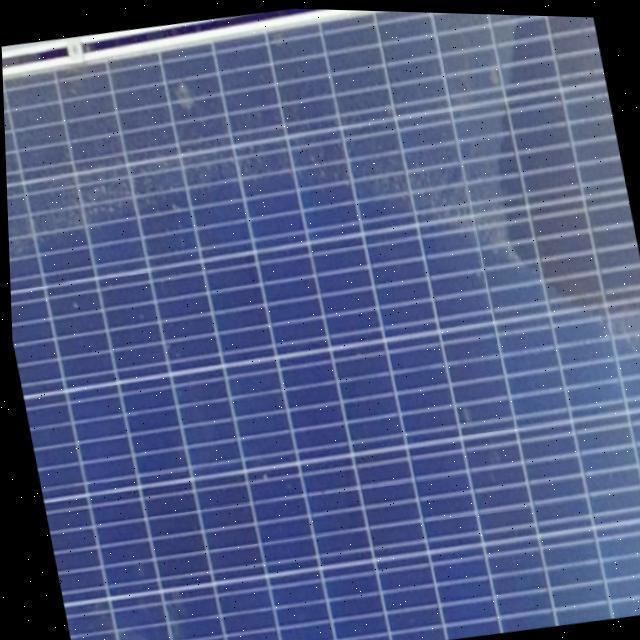Surface Contaminant: (2, 9, 640, 397)
